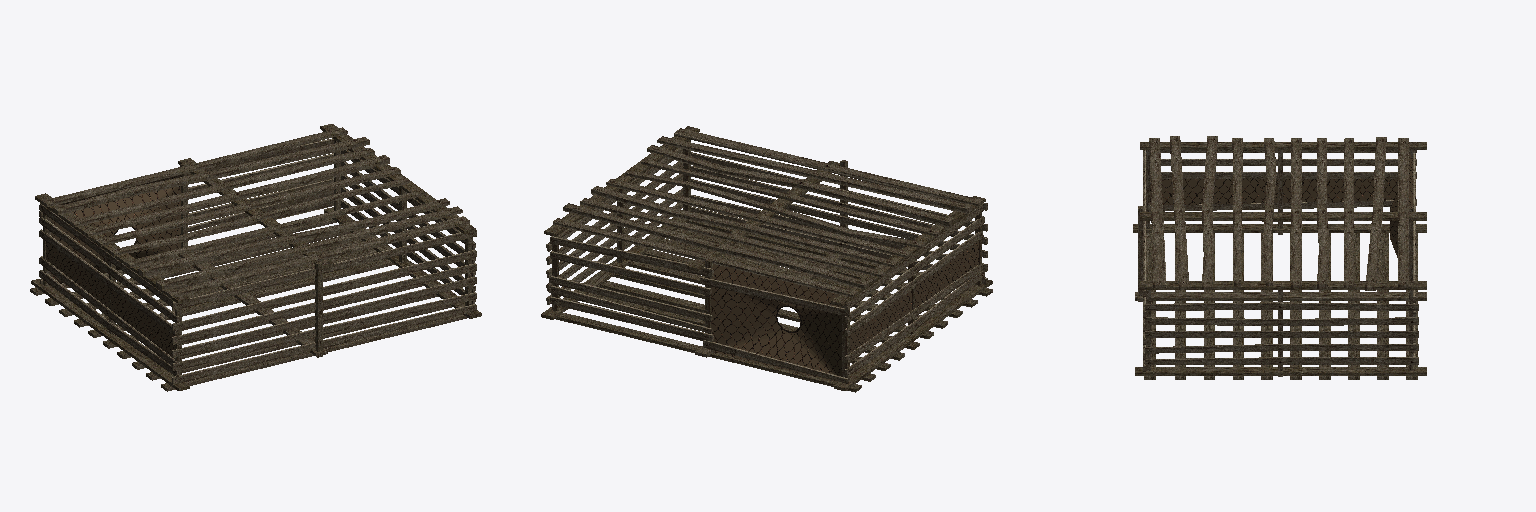
The picture shows the model from 3 angles: view 1: azimuth 30°, elevation 25°; view 2: azimuth 150°, elevation 25°; view 3: azimuth 270°, elevation 25°; orthographic projection.
Parts seen in each view (by area): view 1: lobser_trap_b; view 2: lobser_trap_b; view 3: lobser_trap_b.
Boxes of the visible parts, x1=… form: lobser_trap_b: x1=30, y1=124, x2=481, y2=391; lobser_trap_b: x1=541, y1=126, x2=992, y2=392; lobser_trap_b: x1=1133, y1=136, x2=1426, y2=379.
Bounding box in the file's own units: 45.41 × 13.25 × 36.95.
2 materials, 2 textured.